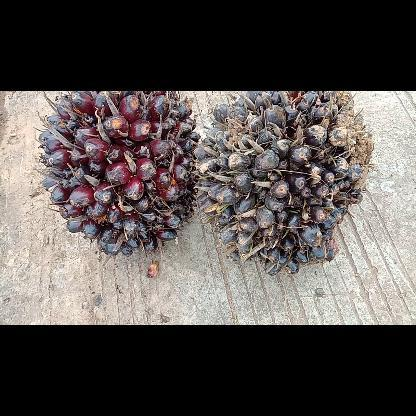TBS mentah: (191, 91, 376, 279), (32, 91, 202, 257)
